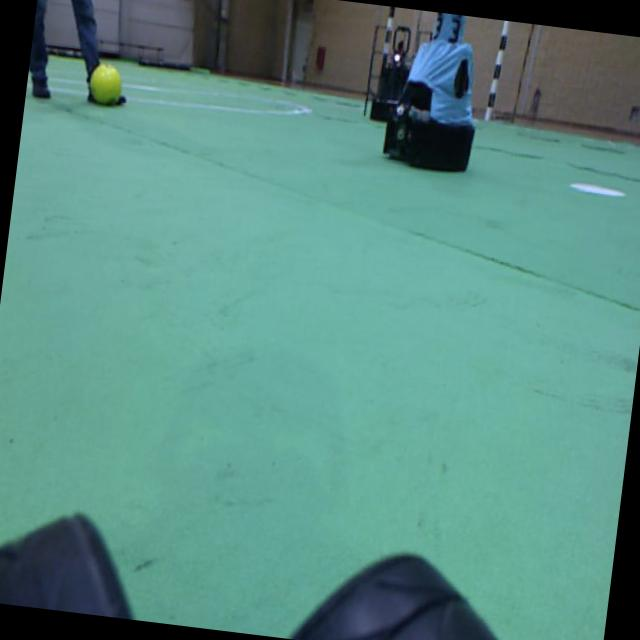ball: (88, 63, 120, 103)
robot: (370, 27, 411, 121)
